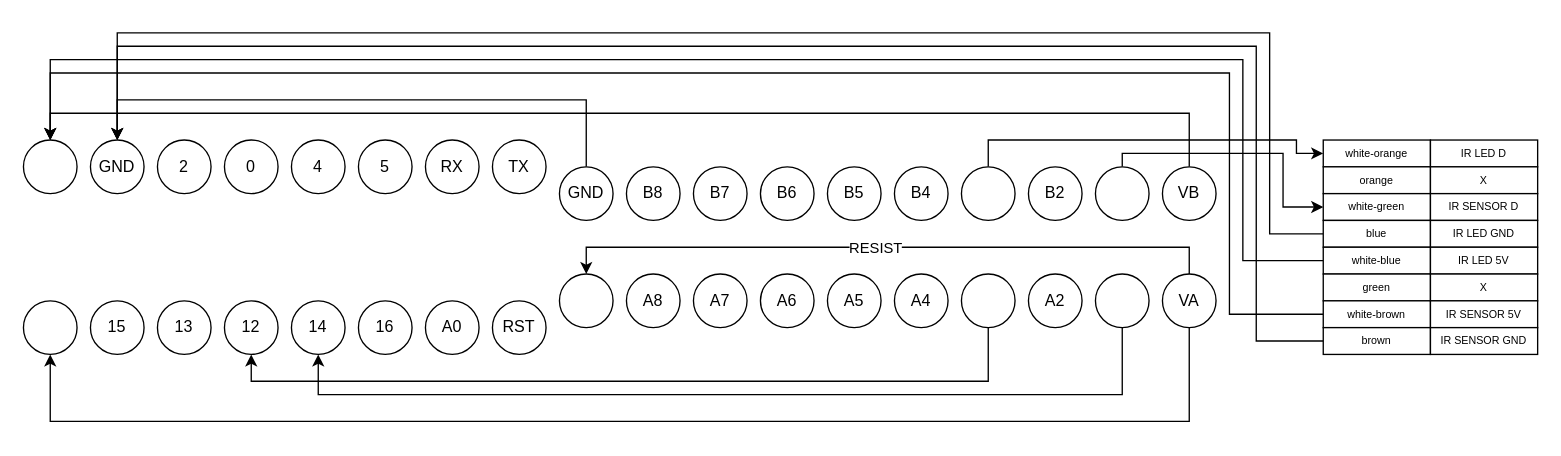
Image size: 1561x456. Some labels were removed from this diagram. The centre of each missing label's shape, as x and y in pixels:
"3V3" belongs at point (49, 326).
"5V" belongs at point (49, 166).
"A1" belongs at point (1121, 300).
"A3" belongs at point (987, 300).
"B1" belongs at point (1121, 192).
"B3" belongs at point (987, 192).
"OE" belongs at point (585, 300).
